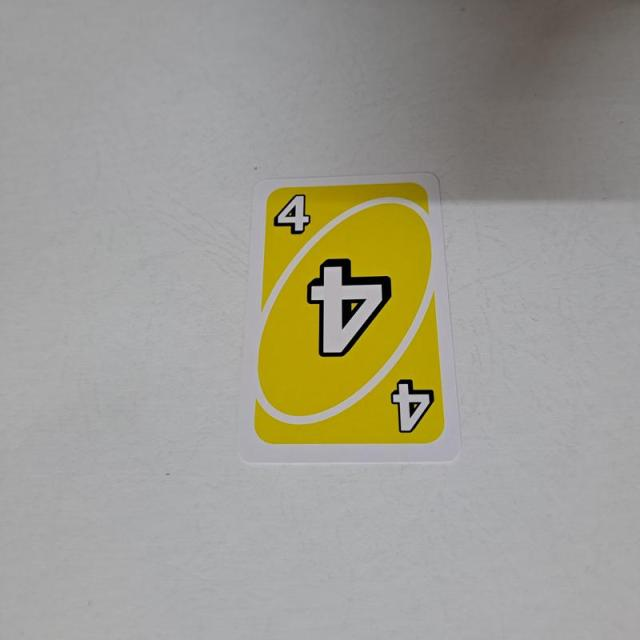Number_4: (271, 183, 316, 246)
Yellow_Card: (249, 179, 451, 447)
